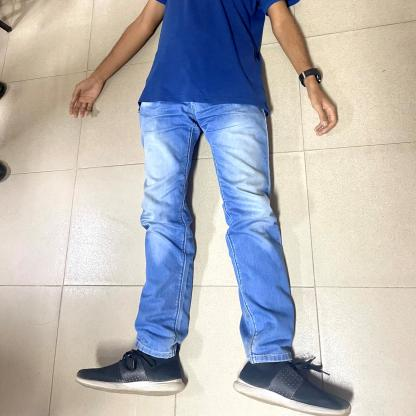hand: (52, 0, 179, 134), (251, 0, 356, 142)
leg: (203, 82, 365, 416), (62, 90, 215, 412)
